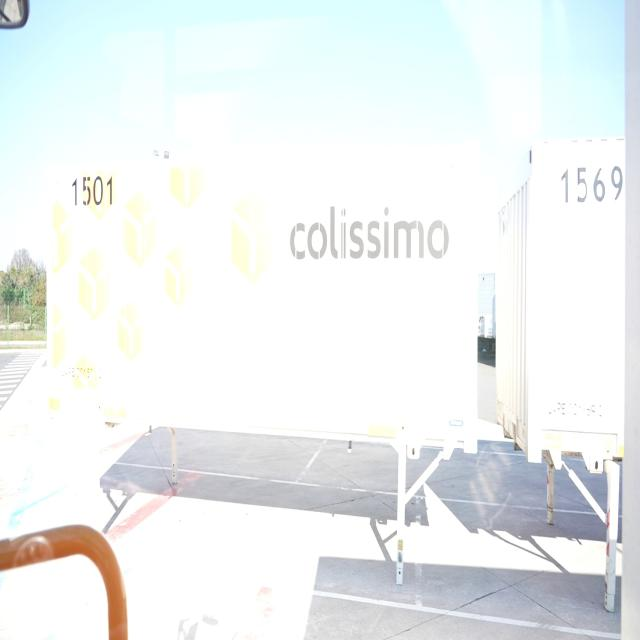Code: (556, 161, 625, 213), (65, 169, 122, 215)
